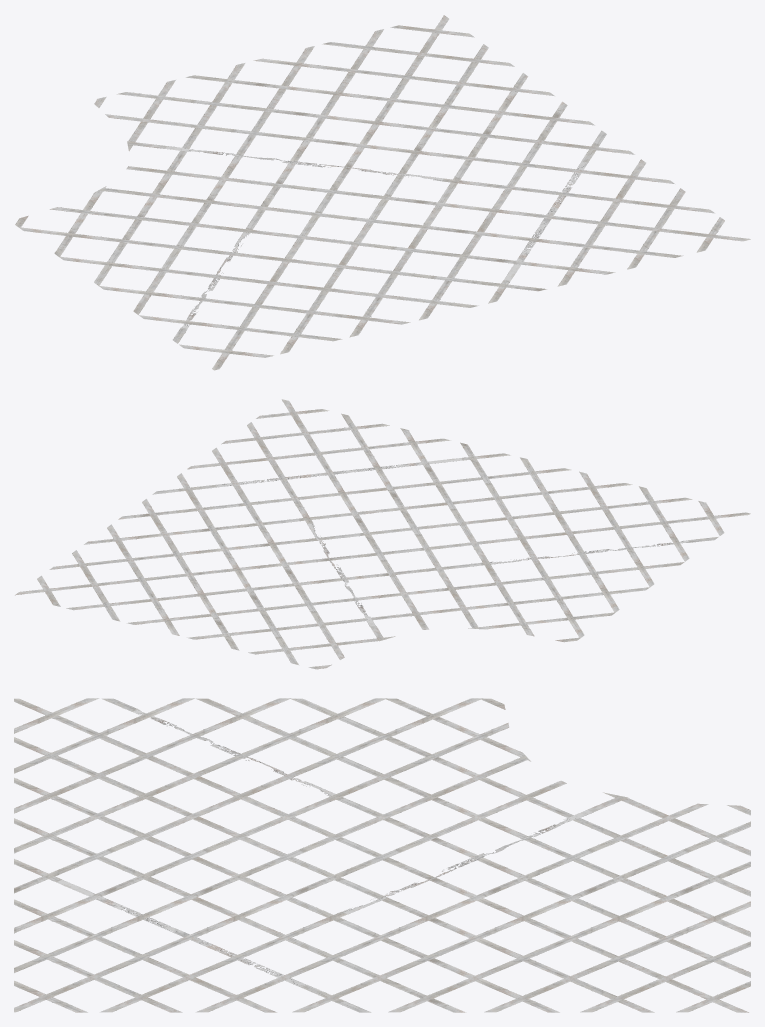
Rendered from HH_Markup_Parking_Grid.fbx.
3 views of the same model, one above another, from view 1: azimuth 30°, elevation 25°; view 2: azimuth 150°, elevation 25°; view 3: azimuth 270°, elevation 25° (orthographic). The views are drawn at different scales.
Parts seen in each view (by area): view 1: HH_Markup_Parking_Grid; view 2: HH_Markup_Parking_Grid; view 3: HH_Markup_Parking_Grid.
Boxes of the visible parts, <box> form: HH_Markup_Parking_Grid: <box>15,15,750,370</box>; HH_Markup_Parking_Grid: <box>15,399,750,669</box>; HH_Markup_Parking_Grid: <box>14,698,750,1012</box>.
Bounding box in the file's own units: 889 × 0.04 × 882.
